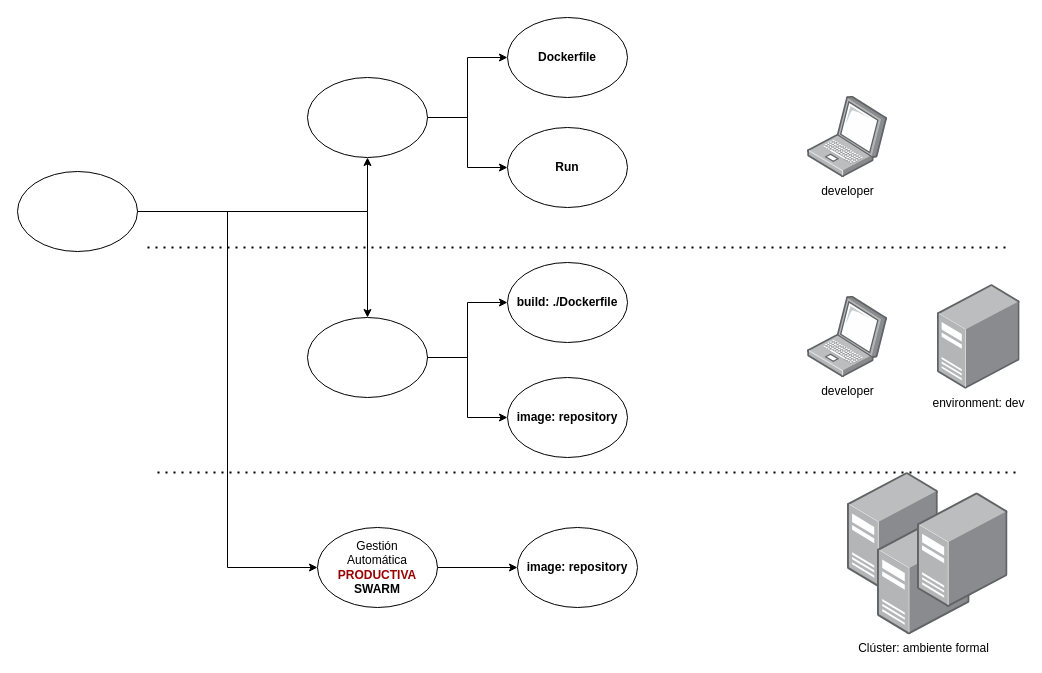
Some shapes in this 1042 by 673 pixel diagram are drawn without their labels. The centre of each missing label's shape, as x and y in pixels:
Gestión Automática LOCAL Compose: [367,357]
Gestión Manual con Docker: [367,117]
Procesos/ programas/ código sobre el S.O: [77,211]
